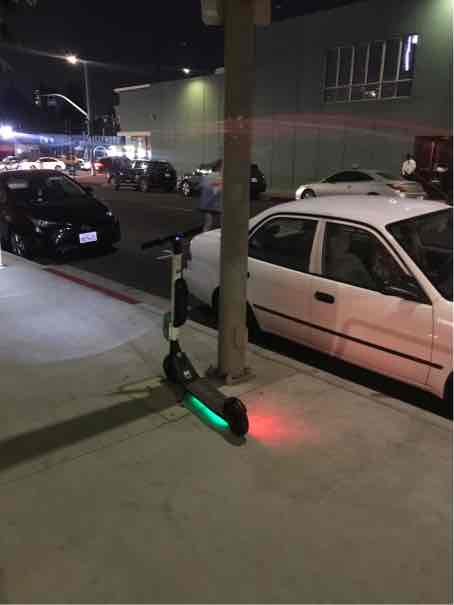scooter: (138, 219, 251, 444)
